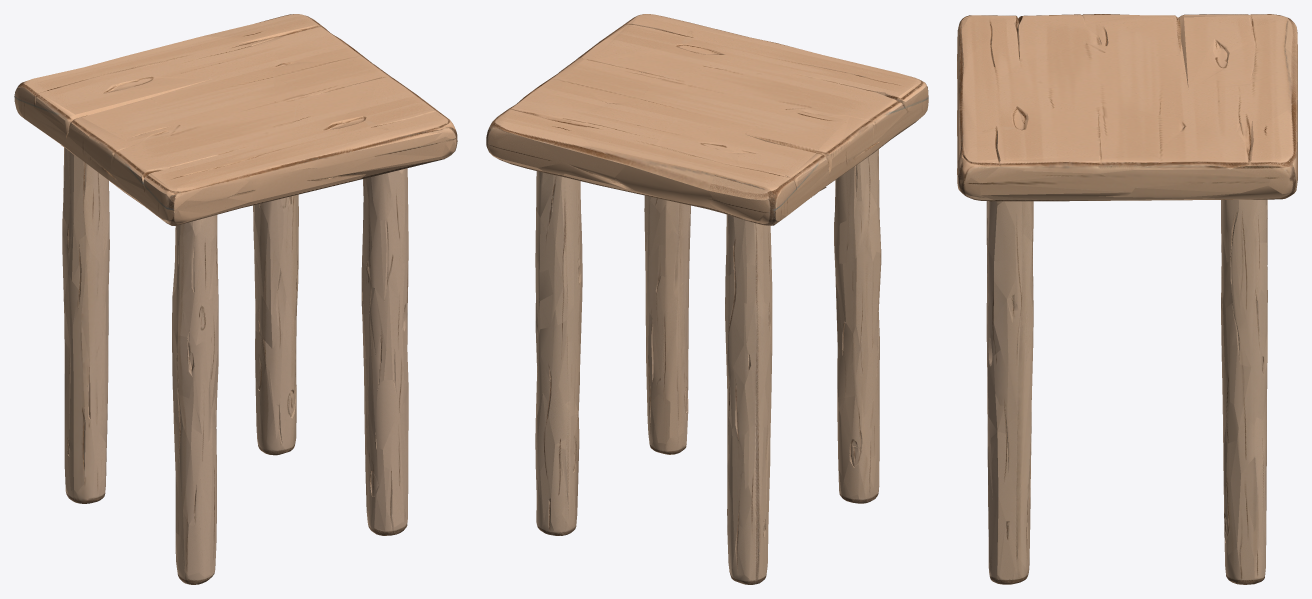
Rendered from raw_shelf_stool_1.glb.
3 renders of one model, left to right at view 1: azimuth 30°, elevation 25°; view 2: azimuth 150°, elevation 25°; view 3: azimuth 270°, elevation 25°, orthographic. The views are drawn at different scales.
Size of the model in its own units: 1.41 by 1.9 by 1.32.
1 material, 1 textured.
